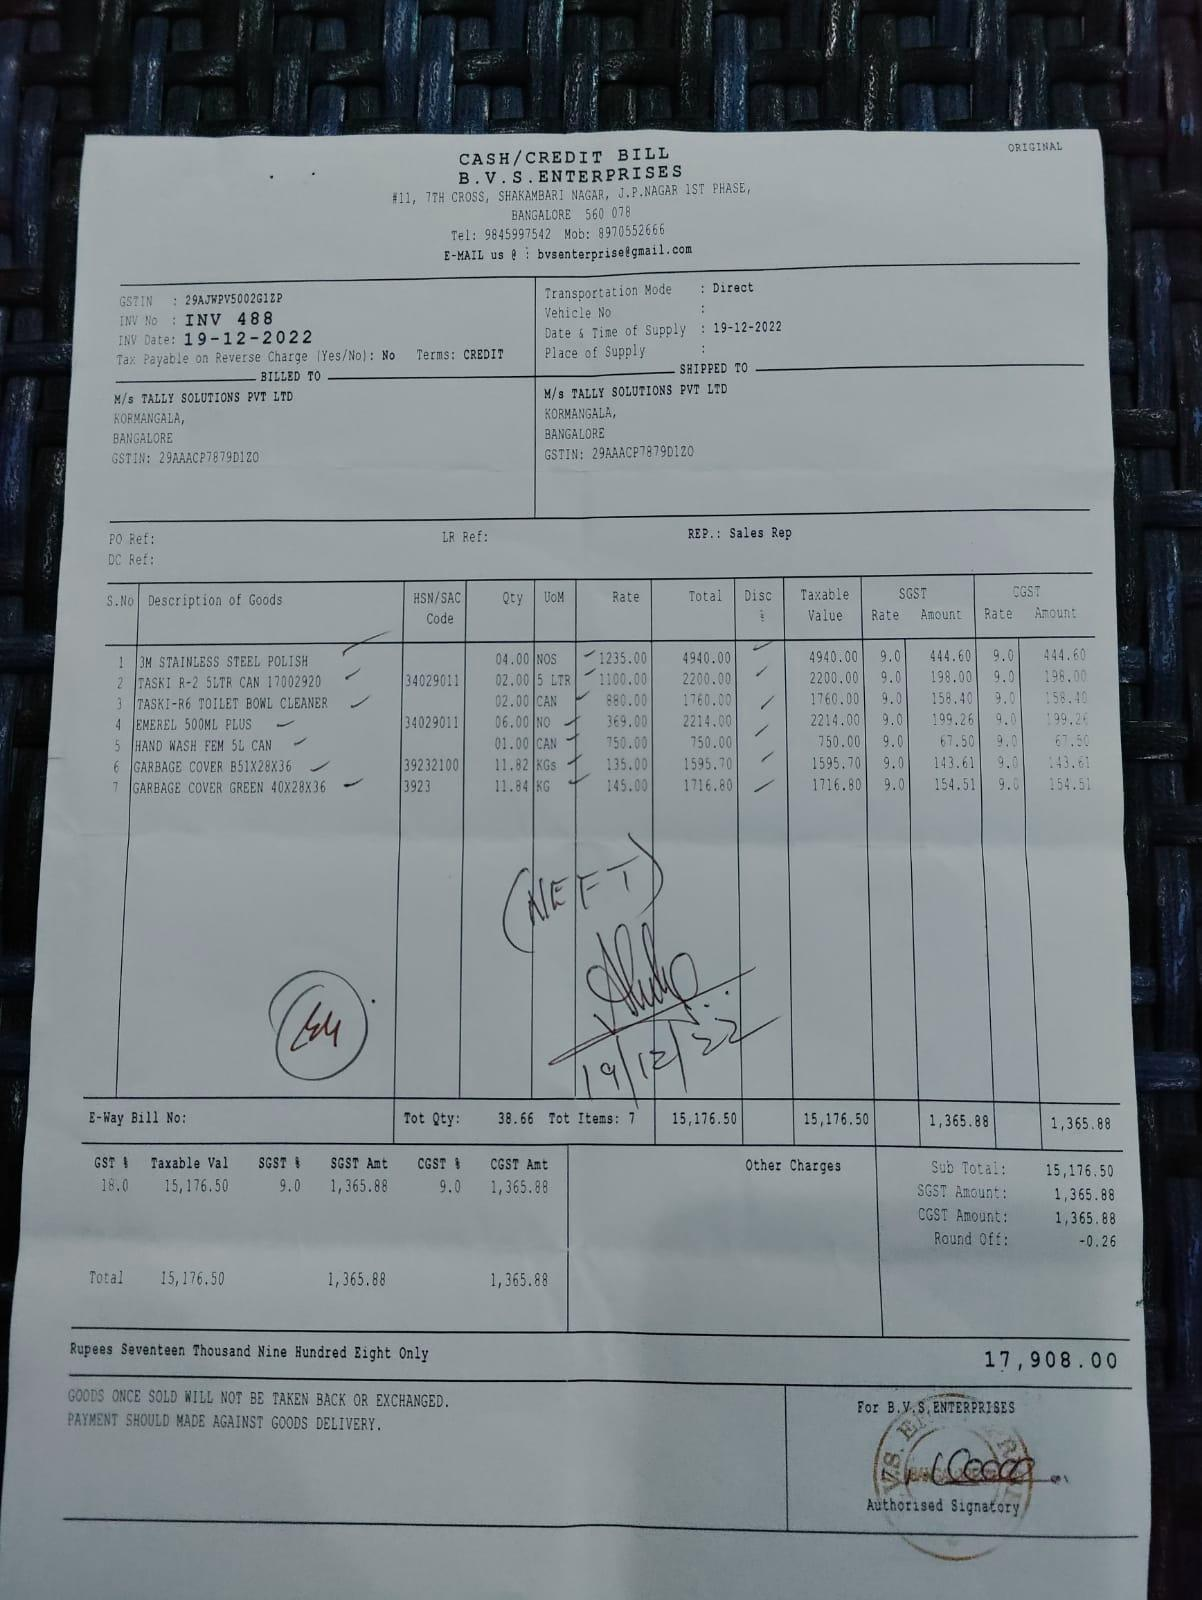InvoiceDate: (177, 331, 318, 351)
InvoiceNumber: (182, 312, 273, 328)
TotalAmount: (1043, 1106, 1120, 1139)
